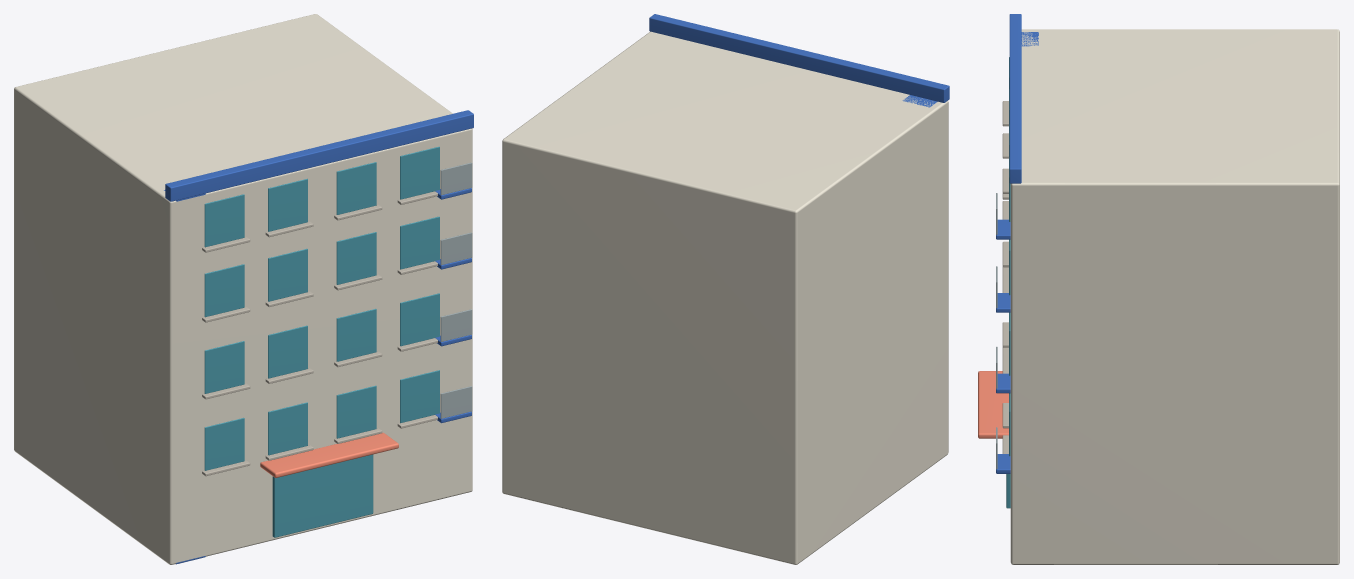
File: HL_Building_Apartment.fbx
3 renders of one model, left to right at view 1: azimuth 30°, elevation 25°; view 2: azimuth 150°, elevation 25°; view 3: azimuth 270°, elevation 25°, orthographic. The views are drawn at different scales.
Visible parts, largest first — view 1: Apartment | main block, Apartment | parapet, Apartment | ground lobby, Apartment | lobby canopy, Apartment | window, Apartment | window.002, Apartment | window.006, Apartment | window.012, Apartment | window.014, Apartment | window.004, Apartment | window.008, Apartment | window.010 (+12 smaller); view 2: Apartment | main block, Apartment | parapet; view 3: Apartment | main block, Apartment | parapet, Apartment | lobby canopy.
Boxes of the visible parts, x1,y1,x2,y2 form: Apartment | main block: (14,14,472,564); Apartment | parapet: (165,110,473,201); Apartment | ground lobby: (272,454,373,537); Apartment | lobby canopy: (260,432,398,477); Apartment | window: (204,418,244,470); Apartment | window.002: (336,385,376,438); Apartment | window.006: (336,309,376,361); Apartment | window.012: (204,194,244,247); Apartment | window.014: (336,162,376,214); Apartment | window.004: (204,341,244,393); Apartment | window.008: (204,264,244,317); Apartment | window.010: (336,232,376,284); Apartment | main block: (502,31,948,564); Apartment | parapet: (649,14,949,102); Apartment | main block: (1010,29,1339,564); Apartment | parapet: (1009,14,1021,183); Apartment | lobby canopy: (978,371,1008,438).
Bounding box in the file's own units: 1150 × 1371 × 1133.
